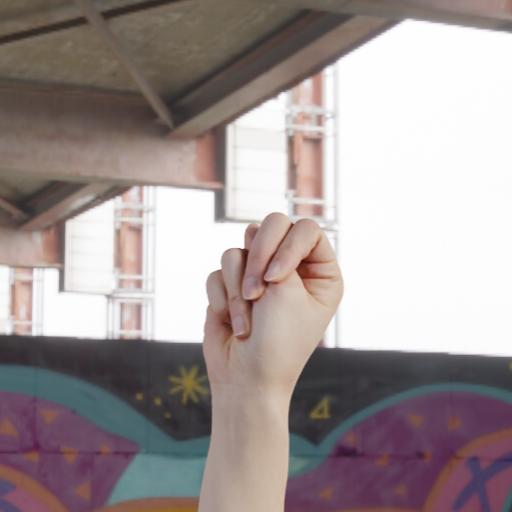N: (192, 198, 357, 450)
